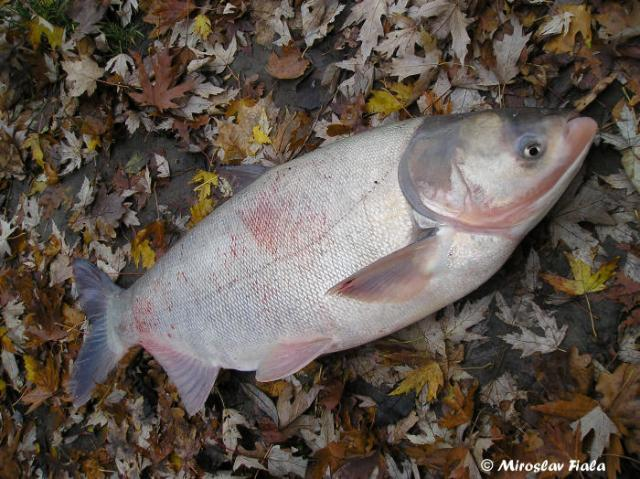Mulut: (560, 100, 610, 152)
Sirip Anal: (134, 324, 222, 430)
Sirip Dada: (321, 223, 442, 311)
Sirip Ekor: (61, 248, 141, 422)
Sirip Perut: (253, 328, 341, 389)
Sirip Punggung: (210, 153, 270, 197)
